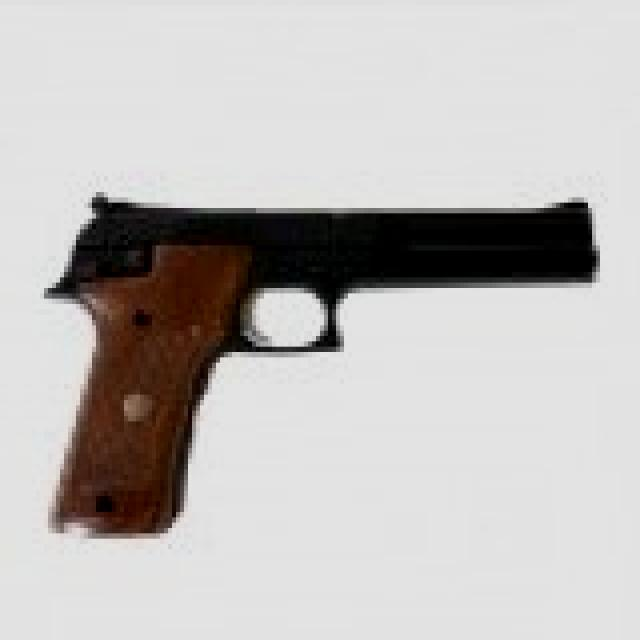pistol: (48, 192, 608, 544)
